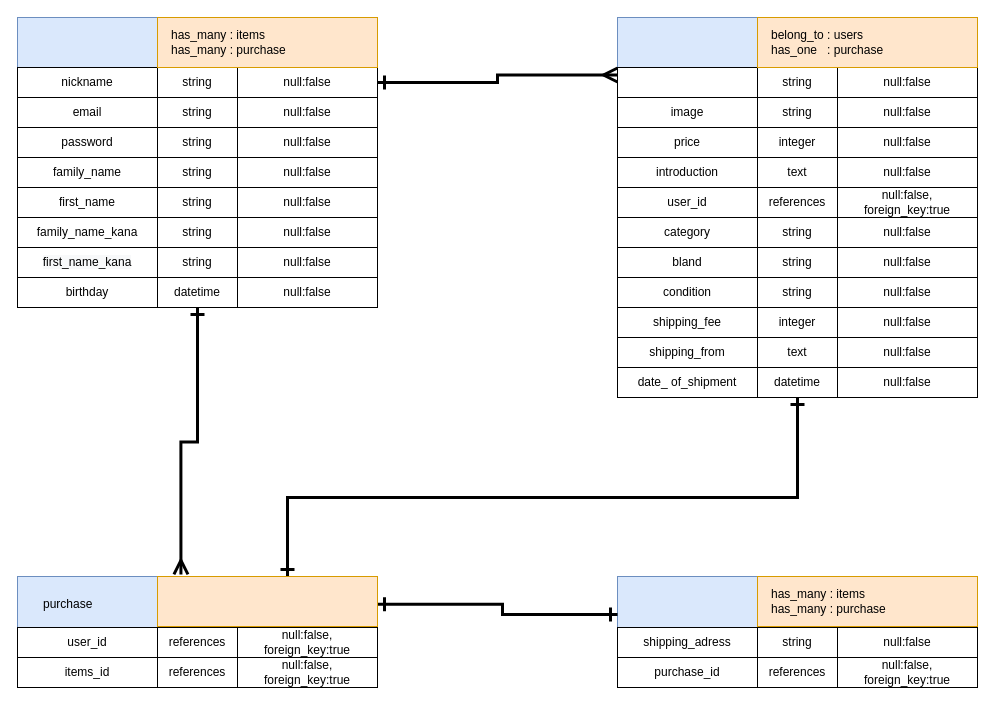
Image size: 995x705. Some labels were removed from this diagram. The shapes that lost their labels are listed below. From the top down, each one's box as (x1, y1, x2, y2) in pixels, then its label:
(616, 66, 758, 98): name
(16, 16, 378, 298): users
(616, 16, 978, 398): items
(156, 576, 378, 626): belong_to : users belong_to : items has_one : destination
(616, 576, 978, 688): destination
